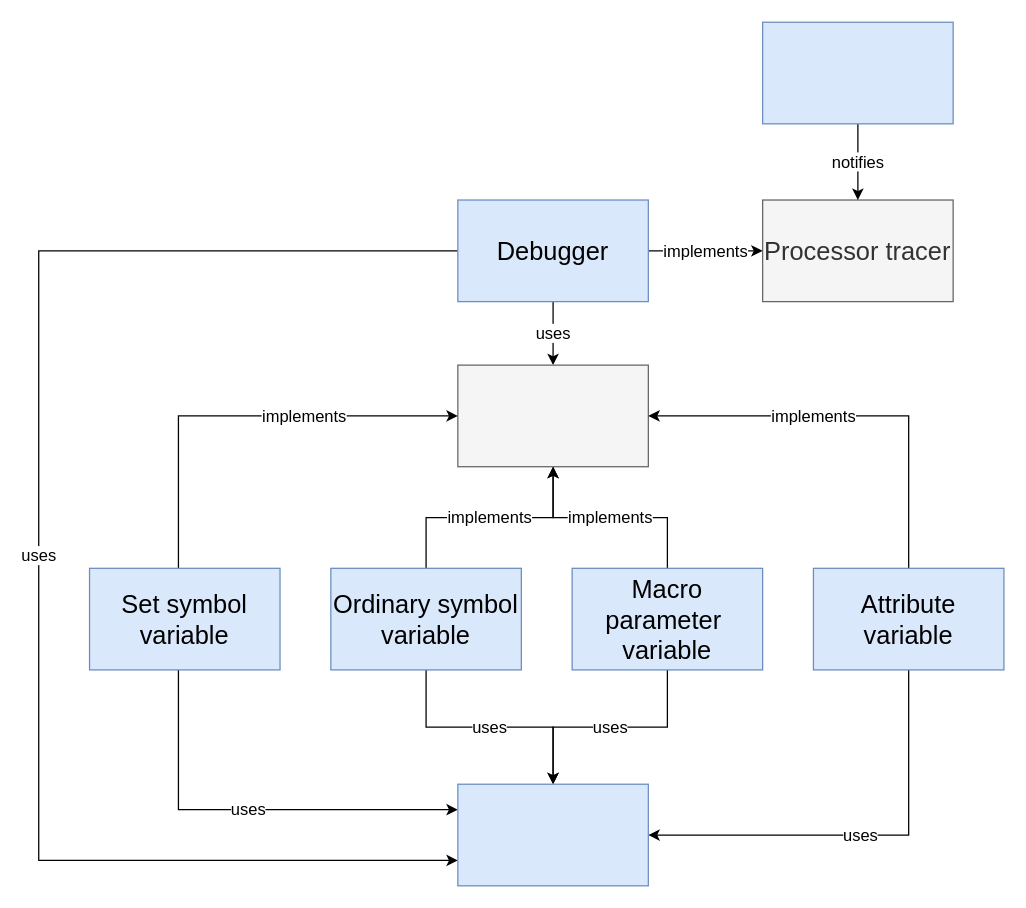
This 1026x908 diagram has some shape labels left out. The shapes that lost their labels are listed below. From the top down, each one's box as (x1, y1, x2, y2) in pixels, then its label:
(761, 21, 953, 124): Analyzer
(457, 364, 648, 467): Variable
(457, 783, 648, 886): Context
